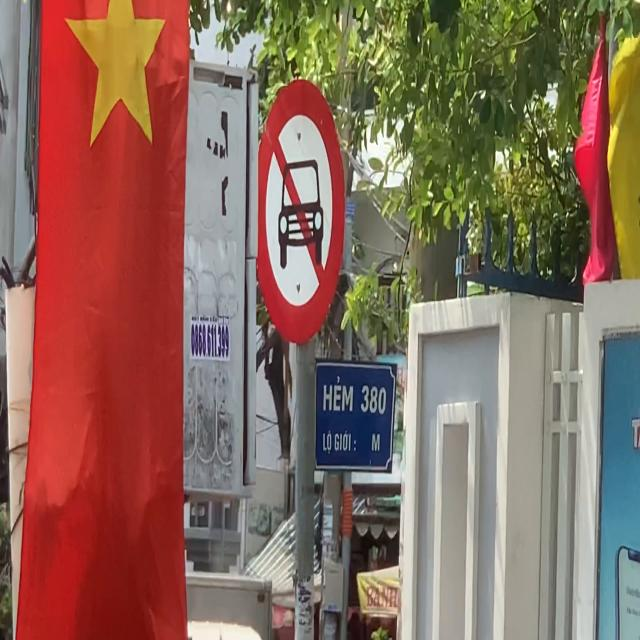Cam con lai: (260, 81, 347, 343)
